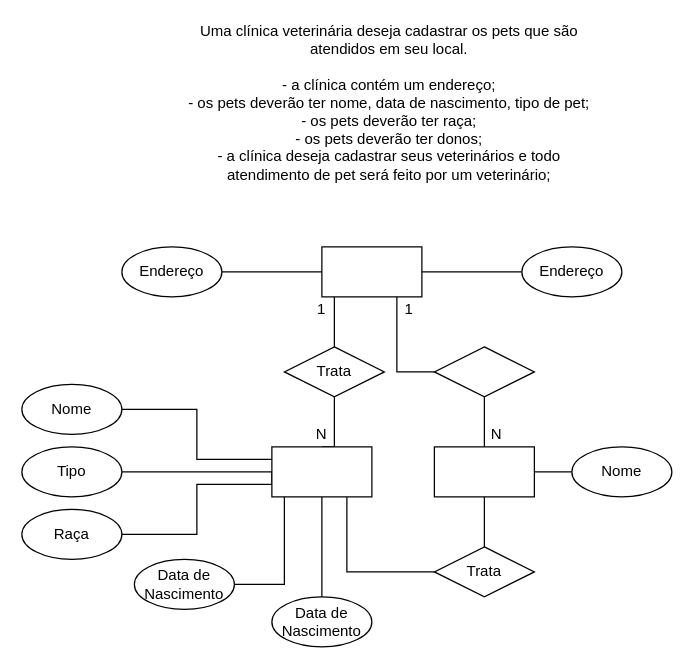
Some shapes in this 694 by 669 pixel diagram are drawn without their labels. The shapes that lost their labels are listed below. From the top down, each one's centre as x and y in pixels, then its label:
[371,271]: Clinica
[483,371]: Contrata
[321,471]: Pet
[483,471]: Veterinário
